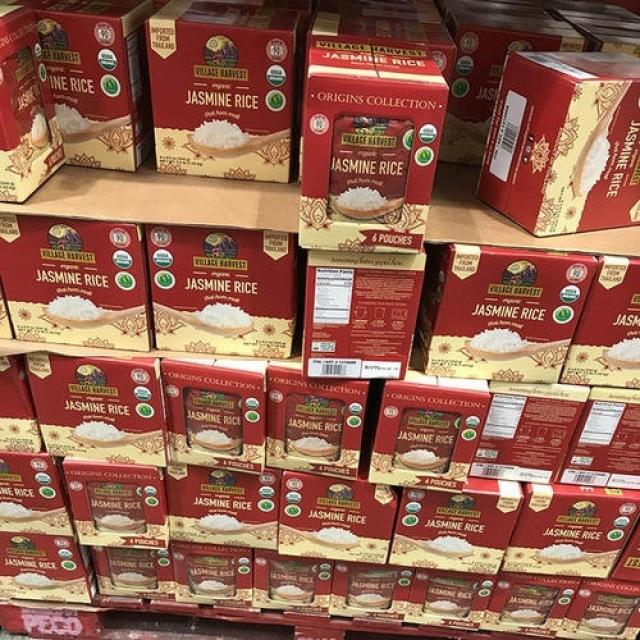box: (298, 41, 451, 256), (471, 52, 640, 238), (146, 0, 311, 184), (413, 243, 599, 385), (22, 0, 170, 172), (438, 0, 585, 166), (0, 212, 155, 353), (145, 225, 300, 358), (366, 340, 492, 495), (298, 247, 428, 380), (266, 323, 372, 483), (22, 352, 168, 467), (305, 0, 456, 93), (161, 353, 271, 477), (276, 457, 401, 566), (0, 5, 68, 205), (388, 477, 522, 576), (502, 483, 640, 579), (470, 381, 593, 484), (559, 253, 640, 389), (163, 466, 283, 550), (63, 456, 170, 550), (556, 387, 640, 489), (0, 535, 99, 607), (0, 452, 77, 538), (480, 575, 580, 639), (540, 0, 640, 59), (404, 568, 495, 632), (170, 541, 253, 608), (253, 549, 337, 614), (328, 562, 413, 623), (556, 579, 640, 640), (88, 547, 175, 602), (0, 355, 46, 453), (609, 522, 640, 582), (0, 280, 14, 339)
